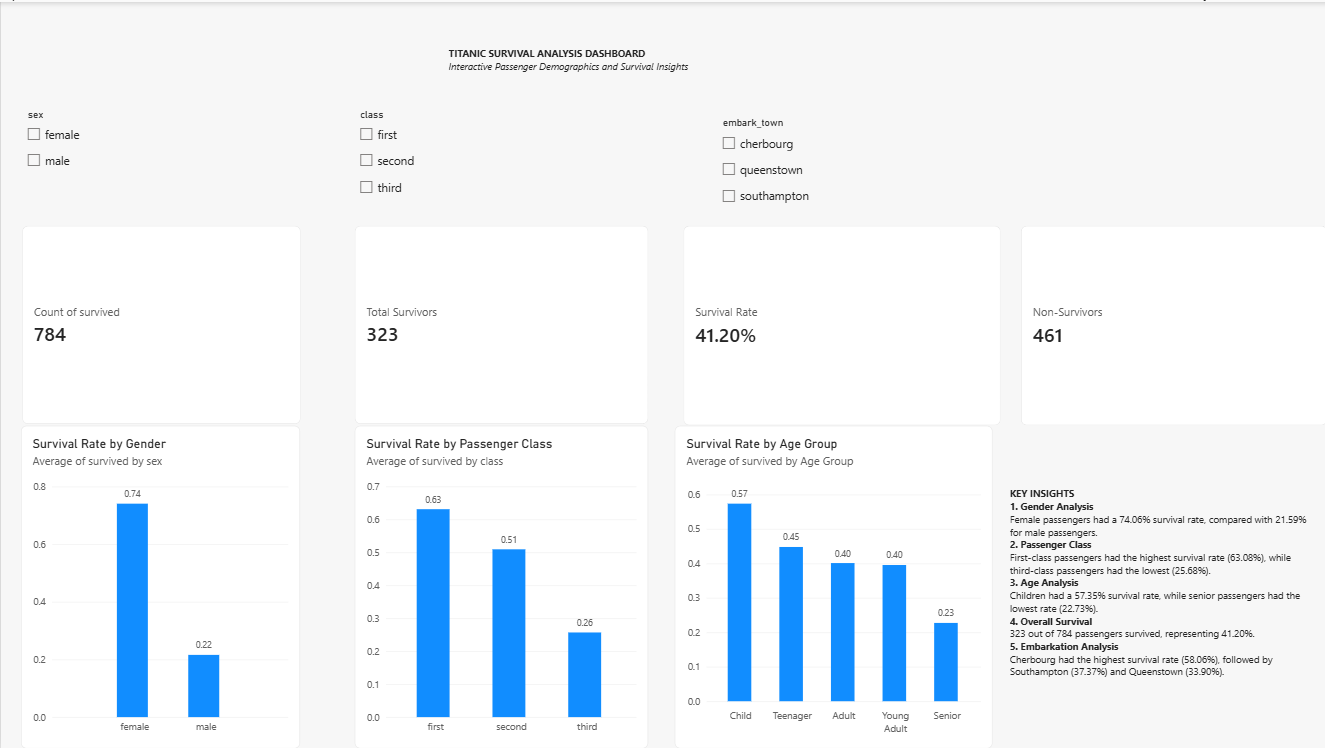

The page's visual inventory and layout, read from the dashboard file:
{"tool":"powerbi","page":{"name":"Page 1","canvas":[1920,1080],"ordinal":0},"visuals":[{"type":"cardVisual","fields":{"Data":["CountNonNull(titanic_cleaned.survived)"]},"box":[30.8,323.9,403.6,287.7],"z":0},{"type":"cardVisual","fields":{"Data":["titanic_cleaned.Total Survivors"]},"box":[512.1,323.9,425.3,287.7],"z":1},{"type":"cardVisual","fields":{"Data":["titanic_cleaned.Survival Rate"]},"box":[988.1,323.9,459.7,289.5],"z":2},{"type":"cardVisual","fields":{"Data":["titanic_cleaned.Non-Survivors"]},"box":[1476.7,323.9,443.4,289.5],"z":3},{"type":"clusteredColumnChart","title":"Survival Rate by Gender","fields":{"Category":["titanic_cleaned.sex"],"Y":["Avg(titanic_cleaned.survived)"]},"box":[29,613.5,404,467],"z":4},{"type":"clusteredColumnChart","title":"Survival Rate by Passenger Class","fields":{"Category":["titanic_cleaned.class"],"Y":["Avg(titanic_cleaned.survived)"]},"box":[512.1,613.5,425,467],"z":5},{"type":"clusteredColumnChart","title":"Survival Rate by Age Group","fields":{"Category":["titanic_cleaned.Age Group"],"Y":["Avg(titanic_cleaned.survived)"]},"box":[975.4,613.5,460,467],"z":6},{"type":"slicer","fields":{"Values":["titanic_cleaned.sex"]},"box":[30.8,153.8,443.4,170.1],"z":7},{"type":"slicer","fields":{"Values":["titanic_cleaned.class"]},"box":[512.1,153.8,425,157],"z":8},{"type":"slicer","fields":{"Values":["titanic_cleaned.embark_town"]},"box":[1036.9,166.5,460,157],"z":9},{"type":"textbox","box":[647.9,65.1,1076.7,121.2],"z":10},{"type":"textbox","box":[1460.4,702.1,430.7,378.2],"z":11}]}

Visuals, with their boxes in screenshot pixels (x1, y1, x2, y2), scaled from the page's 1920x1080 canvas onto the 1325x748 screenshot:
cardVisual - CountNonNull(titanic_cleaned.survived): 21/224/300/424
cardVisual - titanic_cleaned.Total Survivors: 353/224/647/424
cardVisual - titanic_cleaned.Survival Rate: 682/224/999/425
cardVisual - titanic_cleaned.Non-Survivors: 1019/224/1324/425
"Survival Rate by Gender" clusteredColumnChart: 20/425/299/747
"Survival Rate by Passenger Class" clusteredColumnChart: 353/425/647/747
"Survival Rate by Age Group" clusteredColumnChart: 673/425/991/747
slicer - titanic_cleaned.sex: 21/107/327/224
slicer - titanic_cleaned.class: 353/107/647/215
slicer - titanic_cleaned.embark_town: 716/115/1033/224
textbox: 447/45/1190/129
textbox: 1008/486/1305/747
